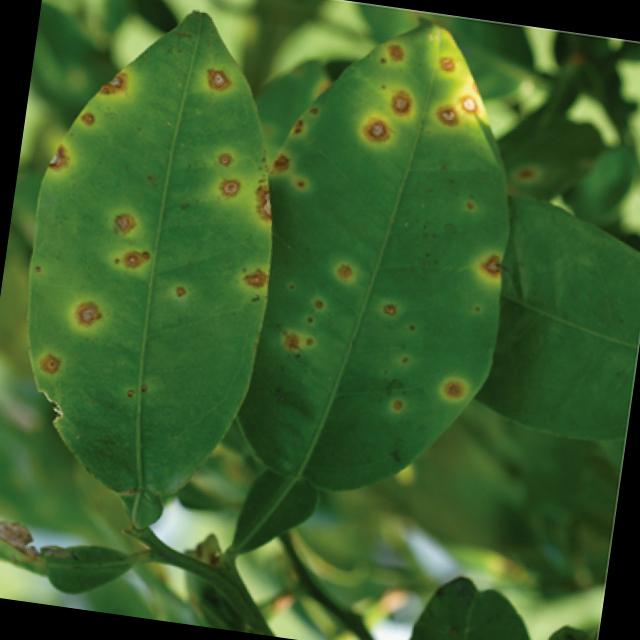leaf_spot: (233, 25, 508, 553), (28, 14, 269, 524)
